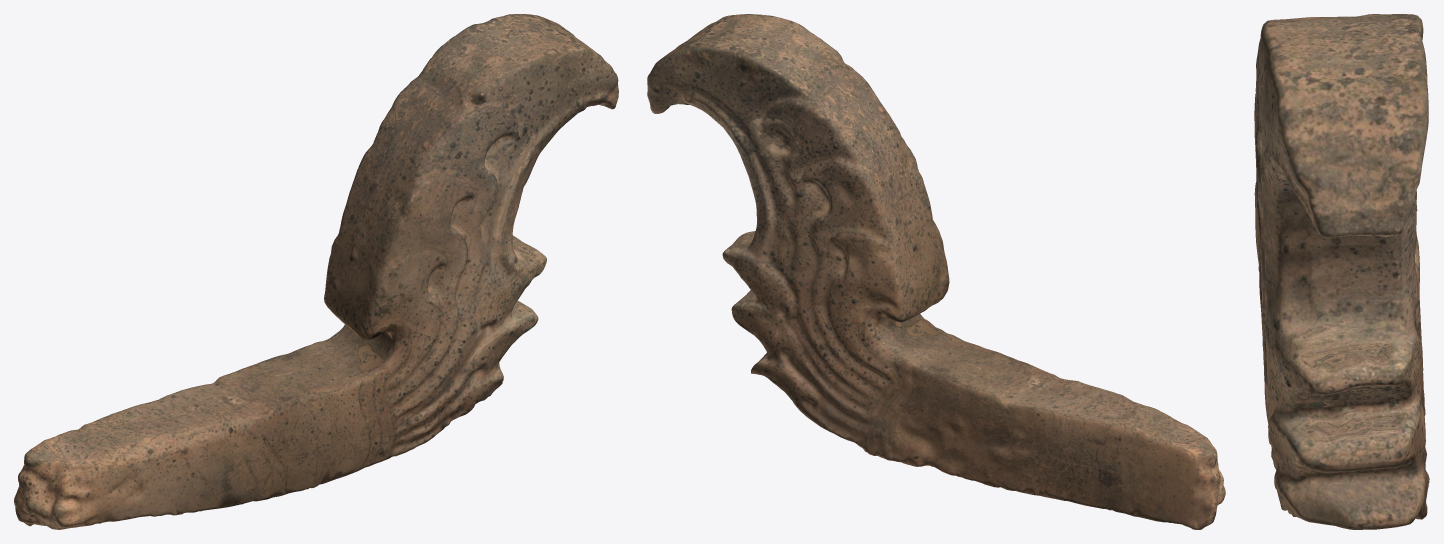
The model's file is MysonMuseum_hoatiethoaco_final.glb.
The picture shows the model from 3 angles, left to right: view 1: azimuth 30°, elevation 25°; view 2: azimuth 150°, elevation 25°; view 3: azimuth 270°, elevation 25°; orthographic projection. The views are drawn at different scales.
Bounding box in the file's own units: 0.3394 × 0.2144 × 0.0577.
Materials: 1 (1 with a texture image).
